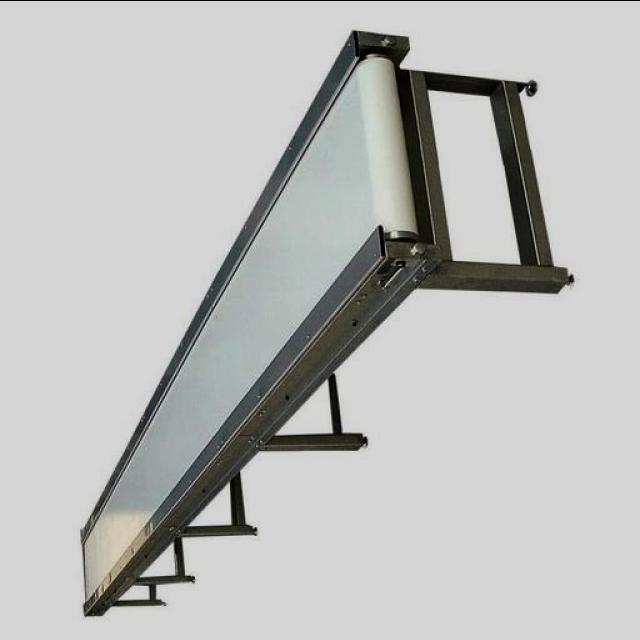conveyor: (81, 51, 411, 605)
